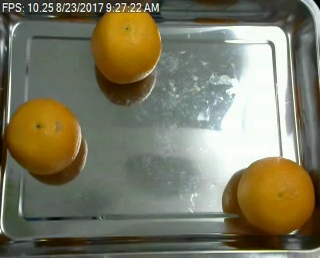Orange: (236, 155, 315, 234), (4, 97, 81, 174), (90, 4, 162, 84)
